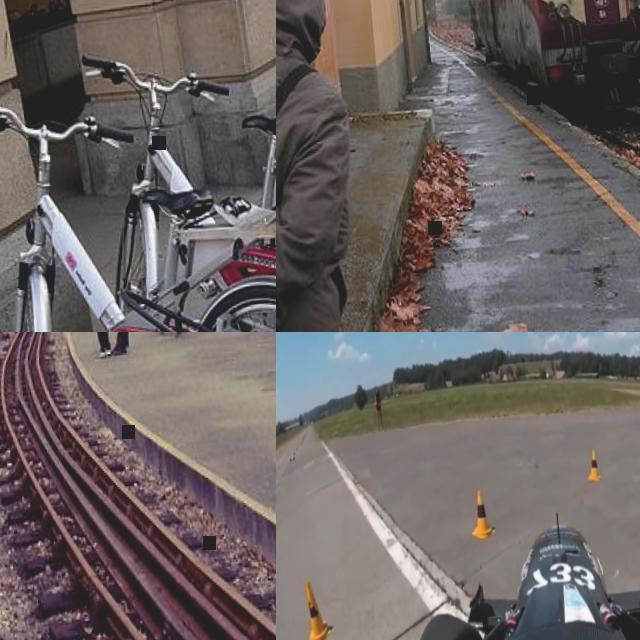no_vest: (276, 36, 351, 332), (376, 396, 382, 409)
person: (276, 0, 367, 332), (85, 332, 139, 358), (86, 332, 116, 358), (374, 389, 386, 427)
safety_cone: (301, 570, 336, 640), (468, 488, 499, 542), (585, 450, 601, 486)
vehicle: (393, 497, 640, 640)
